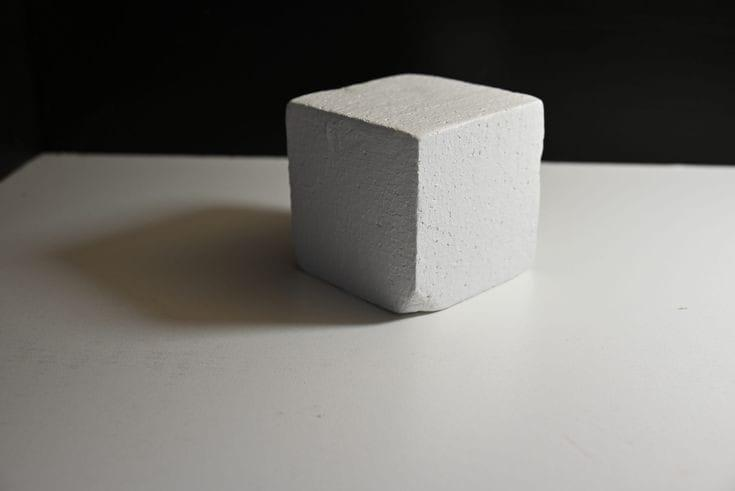cubos: (272, 60, 560, 325)
